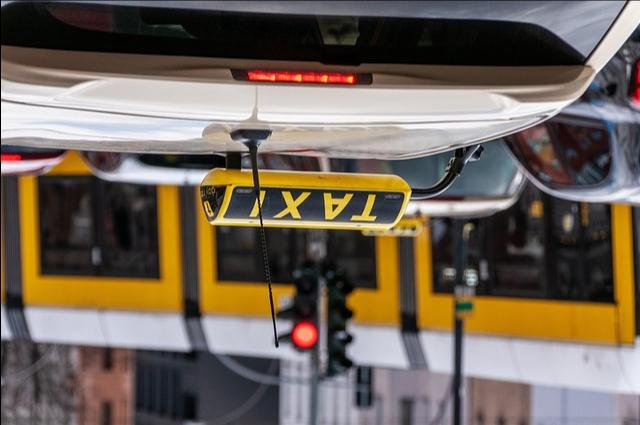Non_Gorille: (39, 20, 624, 372)
